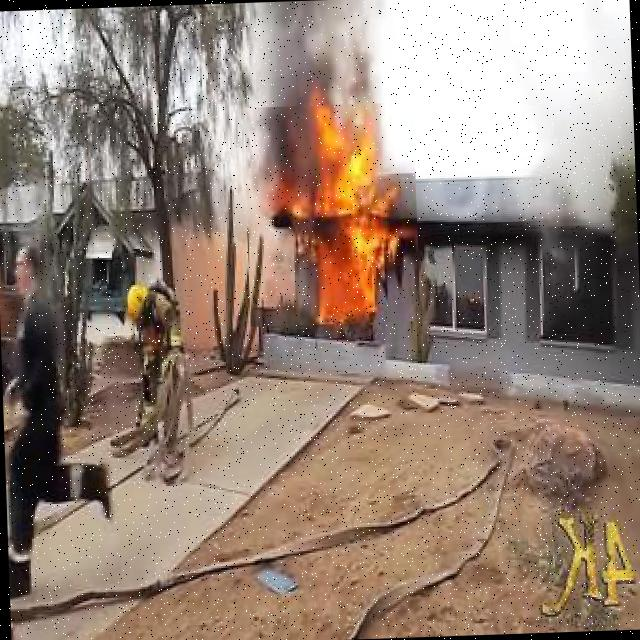fire: (242, 101, 420, 326)
